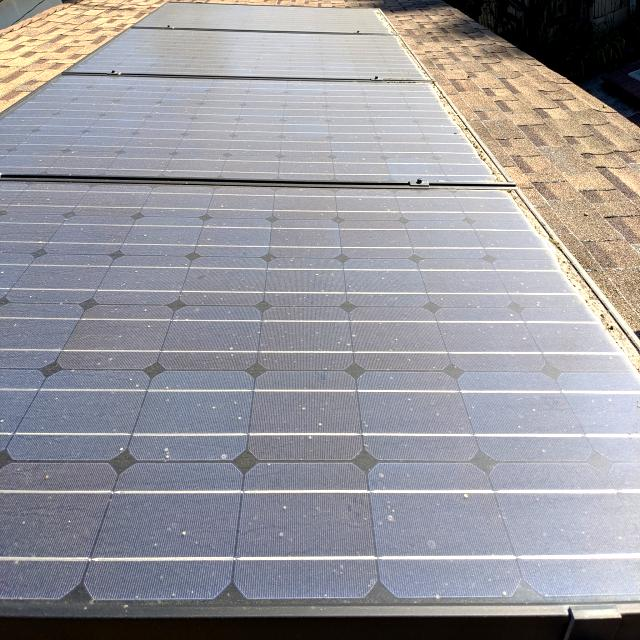dust: (286, 384, 486, 584), (110, 370, 274, 594), (5, 186, 205, 368), (236, 199, 456, 362), (496, 380, 640, 596), (464, 204, 606, 368), (2, 392, 98, 604), (174, 80, 337, 168), (54, 75, 172, 172), (349, 94, 482, 178), (0, 104, 46, 166)
